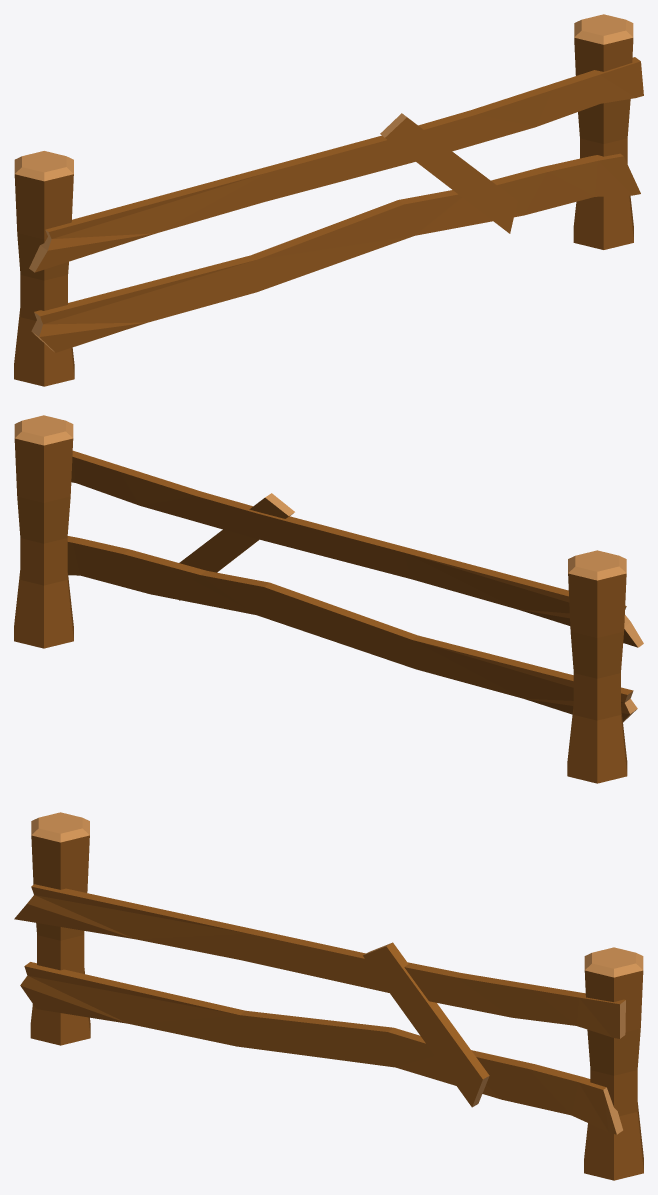
The model's file is Prop_Fence_Wooden_Large_01.fbx.
The picture shows the model from 3 angles, top to bottom: view 1: azimuth 30°, elevation 25°; view 2: azimuth 150°, elevation 25°; view 3: azimuth 330°, elevation 25°; orthographic projection.
Visible parts, largest first — view 1: Prop_Fence_Wooden_Large_01; view 2: Prop_Fence_Wooden_Large_01; view 3: Prop_Fence_Wooden_Large_01.
Part boxes in pixels (bbox=[...]): Prop_Fence_Wooden_Large_01: bbox=[14, 14, 643, 386]; Prop_Fence_Wooden_Large_01: bbox=[14, 415, 643, 783]; Prop_Fence_Wooden_Large_01: bbox=[14, 812, 643, 1180].
Size of the model in its own units: 3616 by 1172 by 405.
